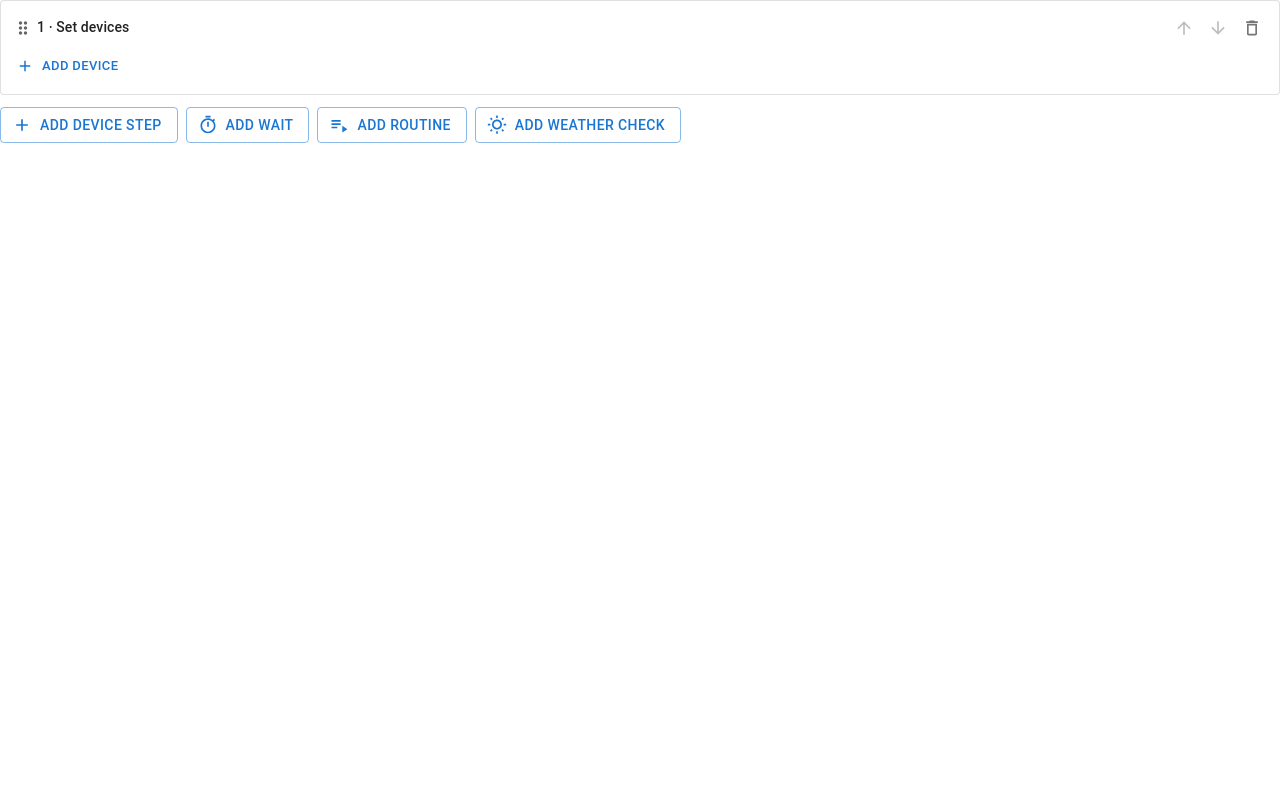
Test case: StepList › offers only switchable devices, and no cameras
The image size is (1280, 800).
Click the button "Add device" at (68, 66), box [13,51,123,82]
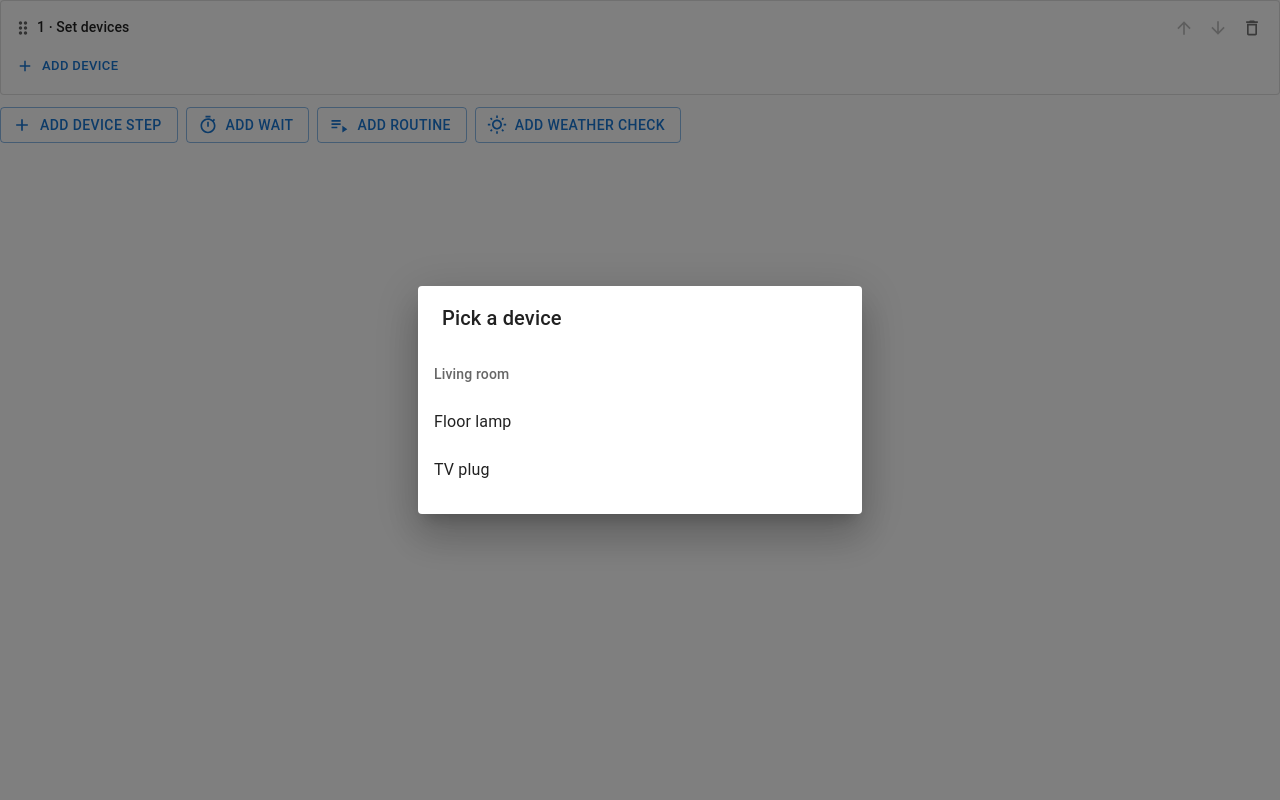
Expected: the button "Floor lamp" is shown, [434,412,512,431]
